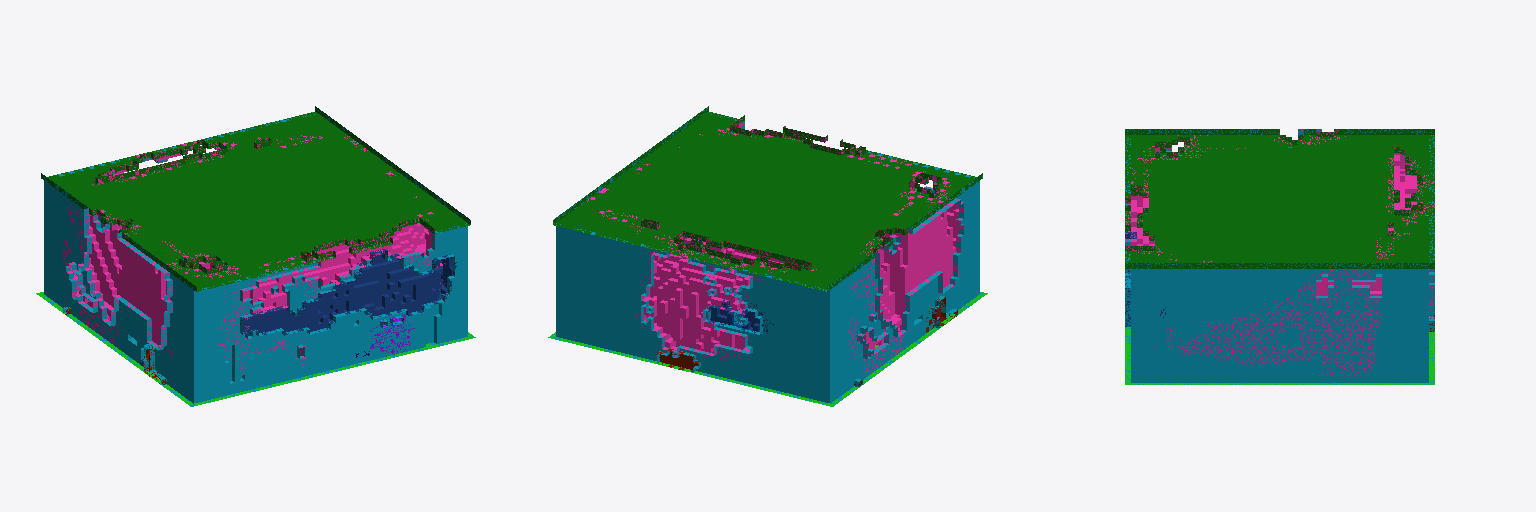
File: Input_prediction.obj
The picture shows the model from 3 angles: view 1: azimuth 30°, elevation 25°; view 2: azimuth 150°, elevation 25°; view 3: azimuth 270°, elevation 25°; orthographic projection.
Visible parts, largest first — view 1: Cube; view 2: Cube; view 3: Cube.
Part boxes in pixels (bbox=[...]): Cube: bbox=[36, 106, 475, 406]; Cube: bbox=[548, 106, 987, 406]; Cube: bbox=[1125, 129, 1434, 384].
Size of the model in its own units: 4.4 by 1.76 by 4.16.